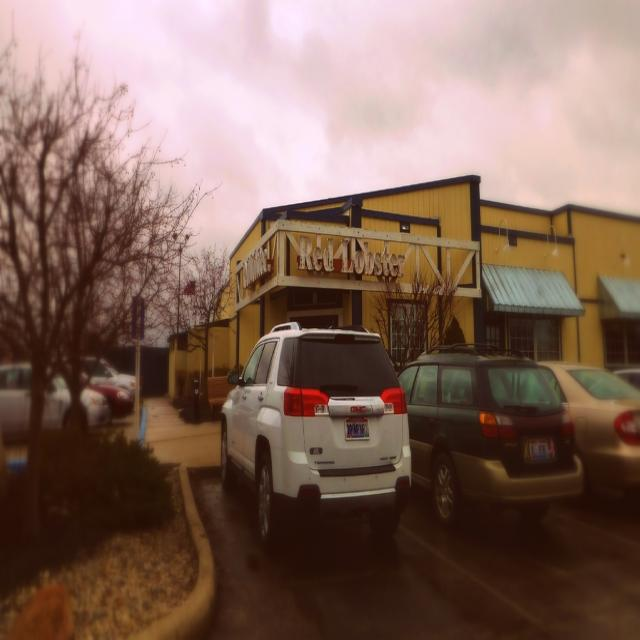car: (218, 328, 417, 528)
